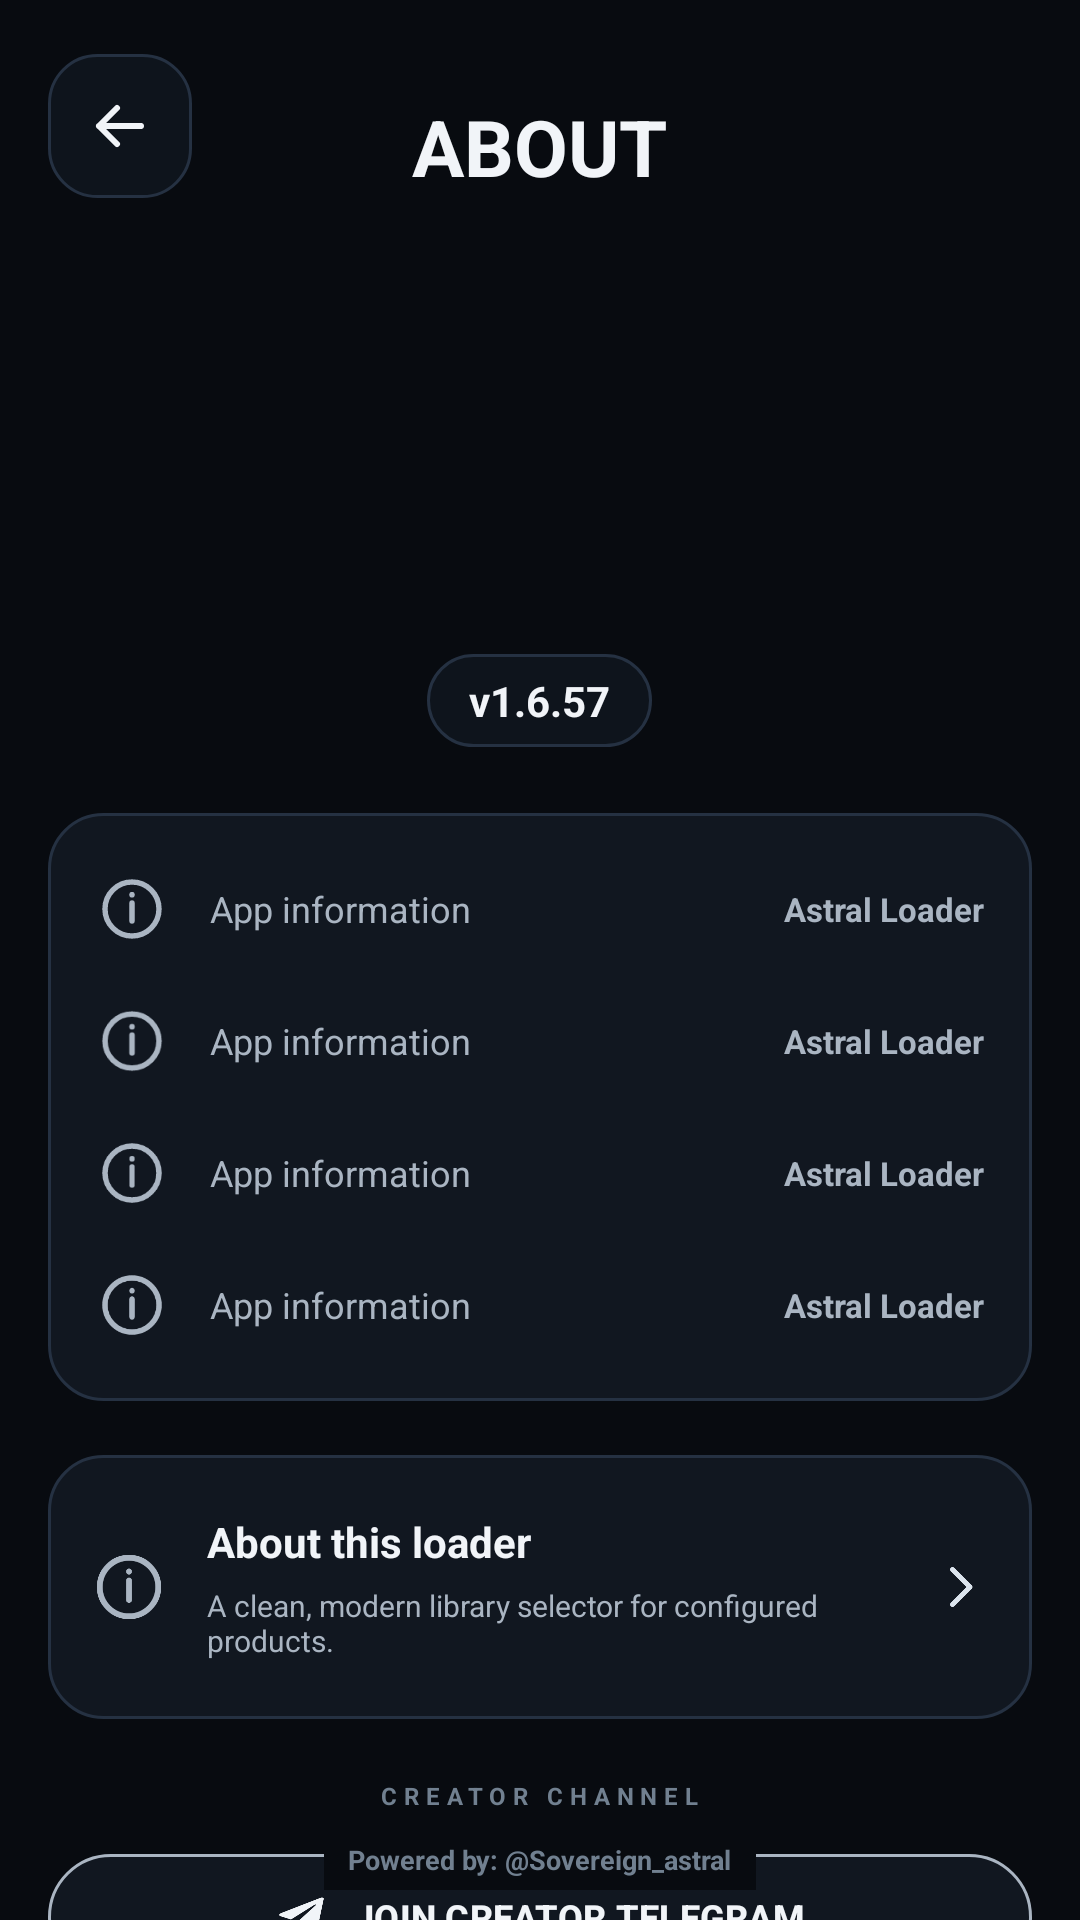

Where icons sit on this 1080px×1920px app screen, as (x1, y1, x2, y2):
About this app: (97, 1555, 161, 1619)
Back: (48, 54, 192, 198)
